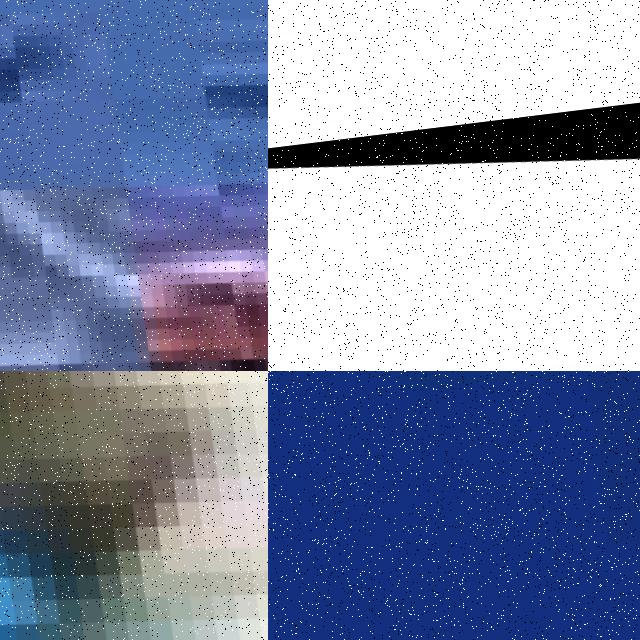drone: (268, 95, 640, 371), (0, 0, 268, 371), (0, 371, 268, 640)
